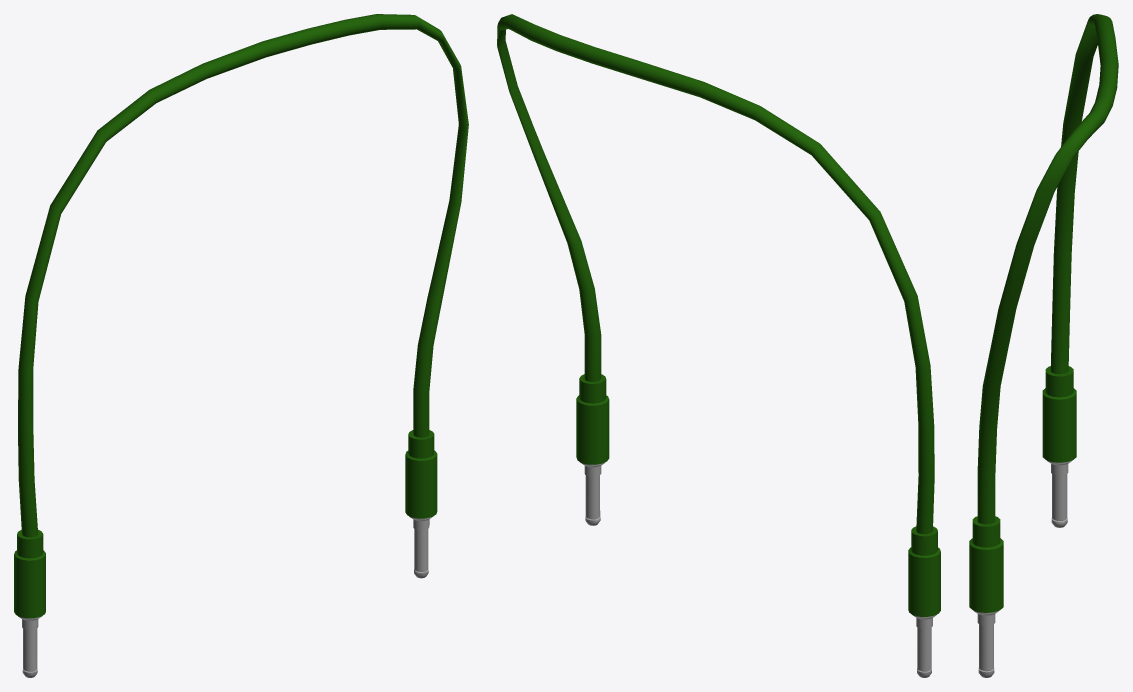
File: Green_Wire.gltf
3 views of the same model, side by side, from view 1: azimuth 30°, elevation 25°; view 2: azimuth 150°, elevation 25°; view 3: azimuth 270°, elevation 25° (orthographic). The views are drawn at different scales.
Visible parts, largest first — view 1: Wire_05; view 2: Wire_05; view 3: Wire_05.
Boxes of the visible parts, bbox=[...] form: Wire_05: bbox=[14, 14, 468, 677]; Wire_05: bbox=[497, 14, 940, 677]; Wire_05: bbox=[969, 14, 1118, 677].
Size of the model in its own units: 0.6206 by 0.7637 by 0.1687.
2 materials, 1 textured.
